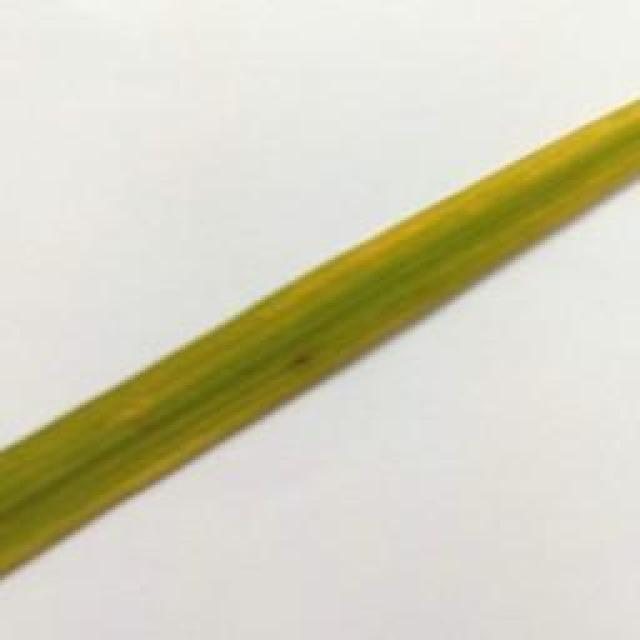Brown_Spot: (287, 351, 314, 376)
